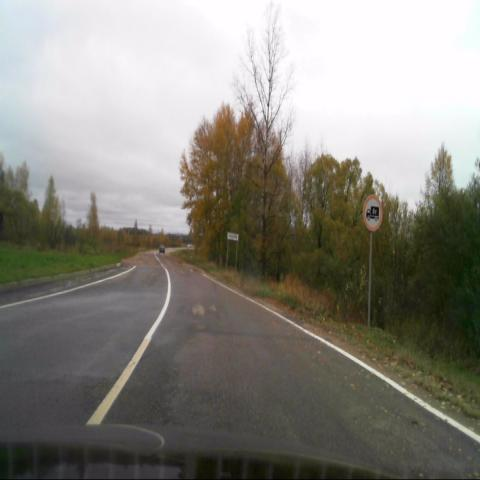3_4: (363, 195, 383, 233)
